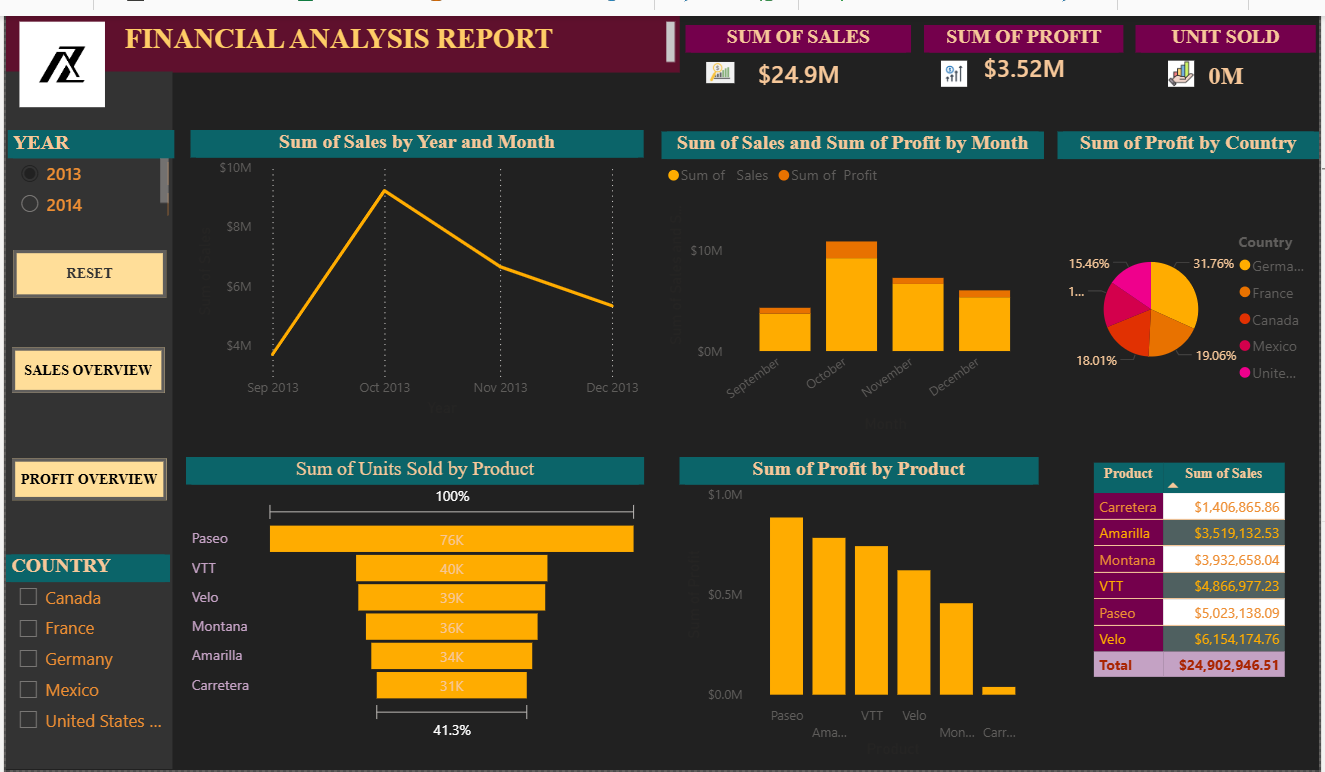

The dashboard page shown, as its layout file describes it:
{"tool":"powerbi","page":{"name":"Page 1","canvas":[1238,711],"ordinal":0},"visuals":[{"type":"shape","box":[0,52.7,157,657.7],"z":0,"group":"g1"},{"type":"funnel","fields":{"Category":["Financial Sample xlsx - Sheet1. Product "],"Y":["Sum(Financial Sample xlsx - Sheet1.Units Sold)"]},"box":[169.9,416.4,431.7,271],"z":0},{"type":"textbox","box":[0,0,635.5,53.6],"z":1000},{"type":"group","id":"g1","title":"Group 1","box":[0,52.7,157,657.7],"z":2000},{"type":"slicer","title":"YEAR","fields":{"Values":["Financial Sample xlsx - Sheet1.Date.Variation.Date Hierarchy.Year"]},"box":[1.4,107.5,157,93.4],"z":3000},{"type":"slicer","title":"COUNTRY","fields":{"Values":["Financial Sample xlsx - Sheet1.Country"]},"box":[0,508.3,154.6,186.8],"z":4000},{"type":"card","title":"SUM OF SALES","fields":{"Values":["Sum(Financial Sample xlsx - Sheet1.  Sales )"]},"box":[641.5,9.2,212.8,73.5],"z":5000},{"type":"card","title":"SUM OF PROFIT","fields":{"Values":["Sum(Financial Sample xlsx - Sheet1. Profit )"]},"box":[865,9.2,188.3,62.8],"z":6000},{"type":"card","title":"UNIT SOLD","fields":{"Values":["Sum(Financial Sample xlsx - Sheet1.Units Sold)"]},"box":[1065.5,9.2,169.9,75],"z":7000},{"type":"image","box":[655.2,0,36.7,107.2],"z":8000},{"type":"image","box":[1065.5,36.7,85.7,35.2],"z":9000},{"type":"image","box":[865,36.7,56.6,35.2],"z":10000},{"type":"image","box":[0,0,105.4,91.1],"z":11000},{"type":"lineChart","fields":{"Category":["Financial Sample xlsx - Sheet1.Date.Variation.Date Hierarchy.Year","Financial Sample xlsx - Sheet1.Date.Variation.Date Hierarchy.Month"],"Y":["Sum(Financial Sample xlsx - Sheet1.  Sales )"]},"box":[174.5,107.2,427.1,274],"z":12000},{"type":"pieChart","fields":{"Category":["Financial Sample xlsx - Sheet1.Country"],"Y":["Sum(Financial Sample xlsx - Sheet1. Profit )"]},"box":[992,108.4,246.6,313.9],"z":13000},{"type":"columnChart","fields":{"Category":["Financial Sample xlsx - Sheet1. Product "],"Y":["Sum(Financial Sample xlsx - Sheet1. Profit )"]},"box":[635.3,416.4,338.3,287.8],"z":14000},{"type":"columnChart","fields":{"Category":["Financial Sample xlsx - Sheet1.Date.Variation.Date Hierarchy.Month"],"Y":["Sum(Financial Sample xlsx - Sheet1.  Sales )","Sum(Financial Sample xlsx - Sheet1. Profit )"]},"box":[618.4,108.4,360.6,287.7],"z":15000},{"type":"tableEx","fields":{"Values":["Financial Sample xlsx - Sheet1. Product ","Sum(Financial Sample xlsx - Sheet1.  Sales )"]},"box":[1019.6,416.4,215.9,237.3],"z":16000},{"type":"actionButton","box":[7.5,220.5,143.9,44.8],"z":17000},{"type":"actionButton","box":[5.6,312,143.9,43],"z":18000},{"type":"actionButton","box":[5.6,416.6,145.7,39.2],"z":19000}]}

Visuals, with their boxes in screenshot pixels (x1, y1, x2, y2), scaled from the page's 1238x711 canvas onto the 1325x772 screenshot:
shape: (left=0, top=57, right=168, bottom=771)
funnel - Financial Sample xlsx - Sheet1. Product  x Sum(Financial Sample xlsx - Sheet1.Units Sold): (left=182, top=452, right=644, bottom=746)
textbox: (left=0, top=0, right=680, bottom=58)
"Group 1" group: (left=0, top=57, right=168, bottom=771)
"YEAR" slicer: (left=1, top=117, right=170, bottom=218)
"COUNTRY" slicer: (left=0, top=552, right=165, bottom=755)
"SUM OF SALES" card: (left=687, top=10, right=914, bottom=90)
"SUM OF PROFIT" card: (left=926, top=10, right=1127, bottom=78)
"UNIT SOLD" card: (left=1140, top=10, right=1322, bottom=91)
image: (left=701, top=0, right=741, bottom=116)
image: (left=1140, top=40, right=1232, bottom=78)
image: (left=926, top=40, right=986, bottom=78)
image: (left=0, top=0, right=113, bottom=99)
lineChart - Financial Sample xlsx - Sheet1.Date.Variation.Date Hierarchy.Year x Financial Sample xlsx - Sheet1.Date.Variation.Date Hierarchy.Month: (left=187, top=116, right=644, bottom=414)
pieChart - Financial Sample xlsx - Sheet1.Country x Sum(Financial Sample xlsx - Sheet1. Profit ): (left=1062, top=118, right=1324, bottom=459)
columnChart - Financial Sample xlsx - Sheet1. Product  x Sum(Financial Sample xlsx - Sheet1. Profit ): (left=680, top=452, right=1042, bottom=765)
columnChart - Financial Sample xlsx - Sheet1.Date.Variation.Date Hierarchy.Month x Sum(Financial Sample xlsx - Sheet1.  Sales ): (left=662, top=118, right=1048, bottom=430)
tableEx - Financial Sample xlsx - Sheet1. Product  x Sum(Financial Sample xlsx - Sheet1.  Sales ): (left=1091, top=452, right=1322, bottom=710)
actionButton: (left=8, top=239, right=162, bottom=288)
actionButton: (left=6, top=339, right=160, bottom=385)
actionButton: (left=6, top=452, right=162, bottom=495)
